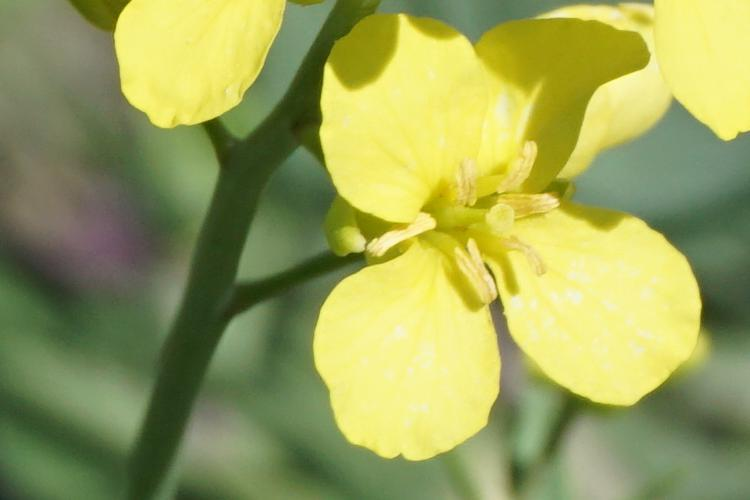yellow: (313, 31, 696, 443), (108, 9, 285, 135)
